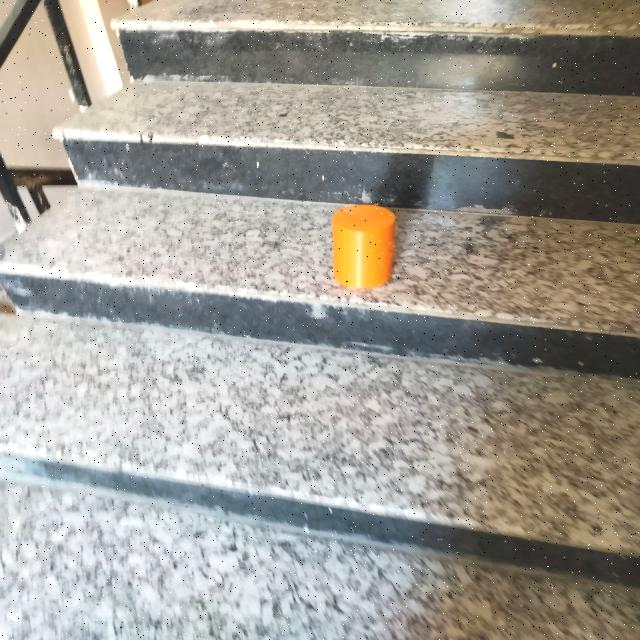Cylinder: (332, 203, 398, 289)
